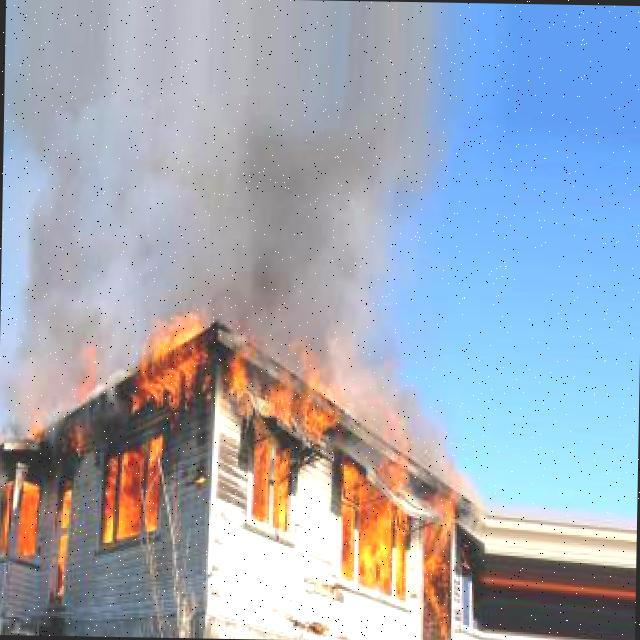Fire: (224, 343, 338, 447), (343, 435, 414, 594), (121, 309, 205, 408), (417, 490, 468, 639), (100, 442, 164, 541), (248, 447, 294, 536), (14, 469, 48, 562), (71, 336, 104, 407), (22, 413, 46, 441)
Smoke: (19, 113, 454, 390), (338, 315, 414, 438)
